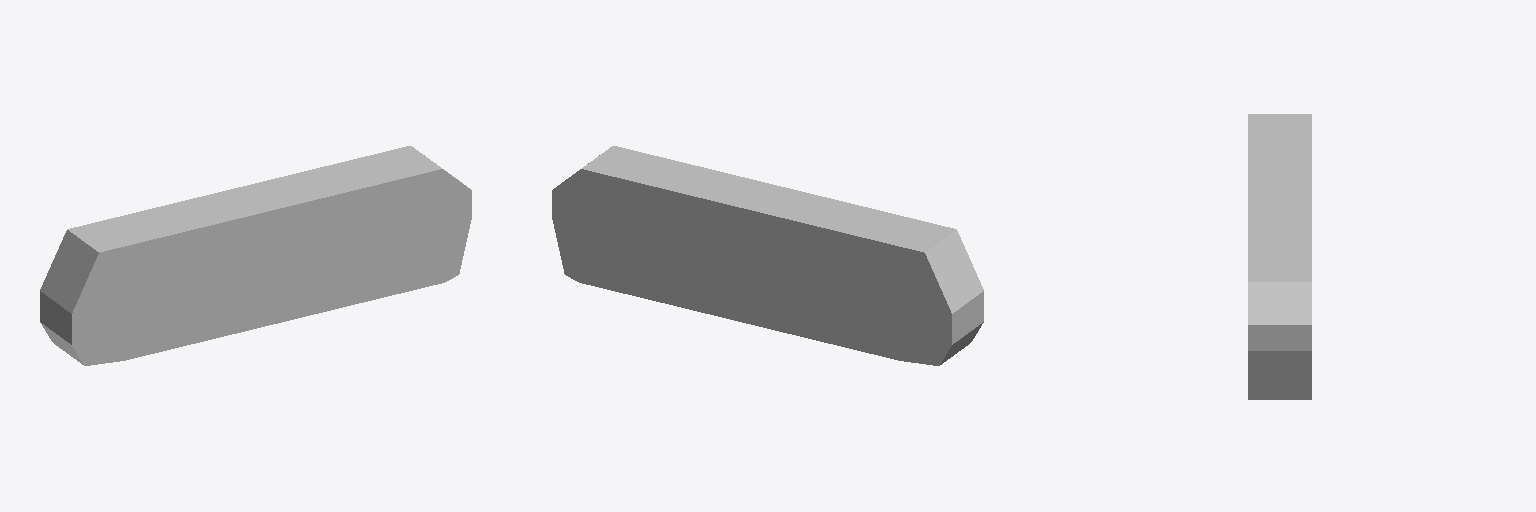
Rendered from fa-minus.obj.
The picture shows the model from 3 angles: view 1: azimuth 30°, elevation 25°; view 2: azimuth 150°, elevation 25°; view 3: azimuth 270°, elevation 25°; orthographic projection.
Size of the model in its own units: 0.8314 by 0.2269 by 0.1152.